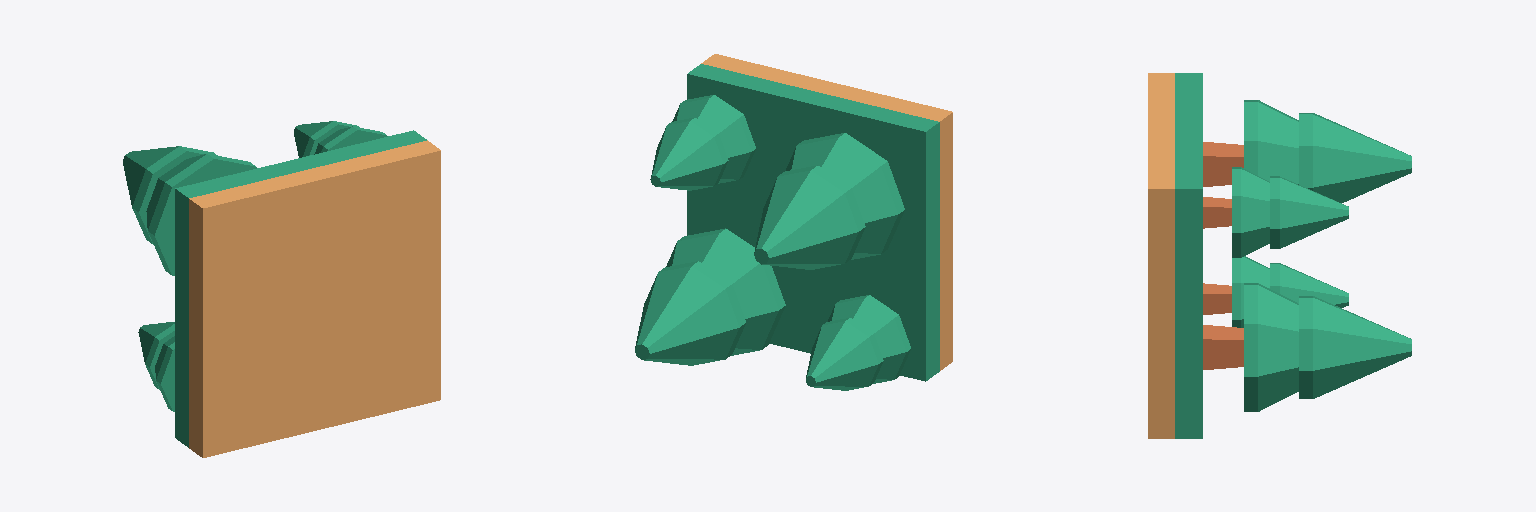
The model's file is tile_treeQuad.obj.
3 views of the same model, side by side, from view 1: azimuth 30°, elevation 25°; view 2: azimuth 150°, elevation 25°; view 3: azimuth 270°, elevation 25° (orthographic).
Parts seen in each view (by area): view 1: tile_treeQuad.002; view 2: tile_treeQuad.002; view 3: tile_treeQuad.002.
Part boxes in pixels (x1,y1,x2,y2): tile_treeQuad.002: (123, 121, 440, 457); tile_treeQuad.002: (635, 54, 952, 390); tile_treeQuad.002: (1148, 73, 1411, 438).
Size of the model in its own units: 1 by 1 by 0.96.